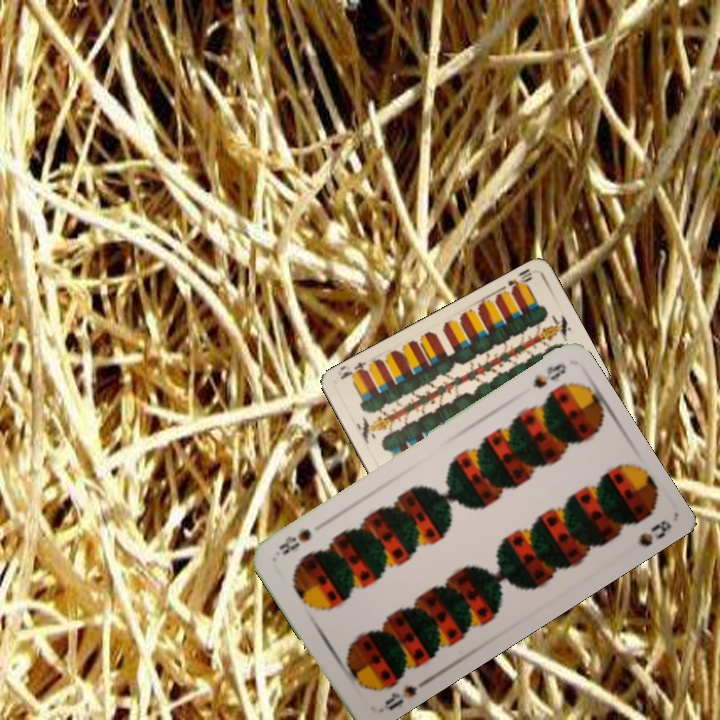E10: (500, 265, 535, 297)
S8: (378, 681, 420, 713), (529, 359, 569, 391)
